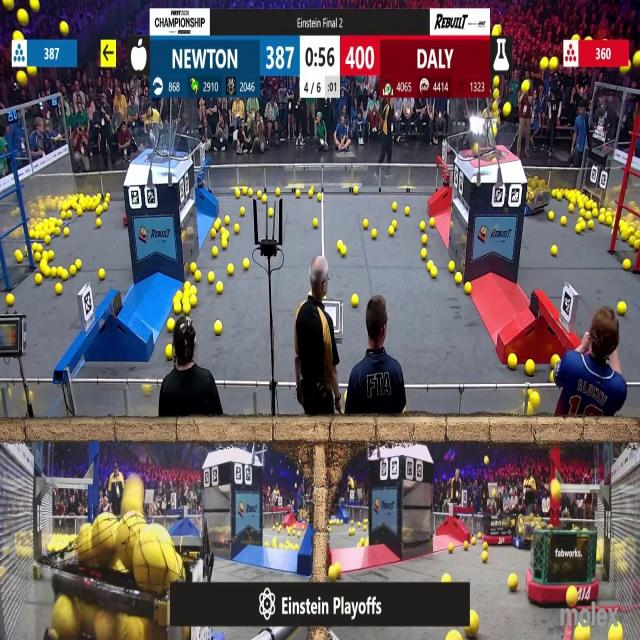ball_airborne: (467, 612, 478, 634), (552, 481, 562, 500), (17, 9, 27, 24), (620, 60, 630, 74), (632, 50, 640, 67), (16, 72, 26, 85), (492, 24, 502, 36), (60, 22, 68, 36), (3, 0, 13, 10), (30, 0, 39, 11), (502, 104, 510, 116), (540, 59, 548, 71), (12, 30, 24, 38), (28, 66, 36, 77), (523, 80, 530, 92), (152, 110, 158, 123), (493, 76, 500, 87), (492, 103, 499, 112), (493, 90, 500, 99), (492, 126, 498, 136), (472, 144, 477, 154), (485, 456, 490, 465), (483, 110, 488, 118)
ball_ground: (611, 626, 624, 640), (509, 574, 518, 591), (328, 565, 338, 580), (530, 391, 540, 405), (574, 628, 586, 639), (510, 354, 518, 369), (526, 360, 534, 374), (166, 346, 174, 360), (40, 264, 48, 277), (214, 320, 221, 334), (619, 303, 627, 315), (182, 304, 190, 316), (550, 59, 558, 71), (168, 319, 175, 332), (443, 572, 452, 582), (624, 261, 632, 272), (420, 248, 428, 259), (6, 293, 13, 305), (455, 273, 462, 285), (189, 294, 196, 306), (464, 282, 471, 294), (552, 354, 559, 366), (174, 304, 182, 314), (352, 293, 358, 306), (208, 273, 215, 284), (15, 251, 22, 262), (62, 270, 69, 281), (143, 384, 150, 395), (70, 266, 77, 277), (216, 282, 222, 294), (36, 274, 42, 286), (99, 270, 106, 280), (449, 263, 456, 273), (193, 272, 200, 282), (586, 210, 593, 220), (483, 552, 489, 563), (244, 260, 250, 271), (50, 268, 56, 279), (76, 258, 82, 269), (550, 370, 556, 381), (628, 238, 636, 246), (227, 266, 233, 276), (57, 284, 63, 294), (552, 246, 558, 256), (370, 230, 376, 240), (212, 246, 218, 256), (313, 218, 319, 228), (430, 269, 436, 279), (221, 240, 227, 250), (527, 406, 533, 416), (599, 214, 605, 224), (214, 219, 220, 229), (42, 250, 48, 260), (592, 208, 598, 218), (420, 221, 426, 230), (240, 207, 246, 216), (341, 247, 347, 256), (386, 227, 392, 236), (189, 264, 195, 273), (269, 208, 275, 217), (211, 230, 217, 239), (422, 236, 428, 245), (48, 251, 54, 260), (190, 286, 196, 295), (316, 191, 322, 200), (427, 262, 433, 271), (76, 207, 82, 216), (605, 216, 611, 225), (45, 236, 51, 245), (449, 542, 454, 552), (97, 218, 102, 228), (363, 218, 368, 228), (338, 240, 343, 250), (577, 216, 584, 223), (561, 216, 567, 224), (588, 220, 594, 228), (547, 212, 553, 220), (403, 207, 409, 215), (35, 252, 41, 260), (64, 229, 70, 237), (236, 189, 242, 197), (483, 541, 489, 549), (429, 218, 435, 226), (176, 290, 182, 298), (67, 210, 73, 218), (256, 190, 262, 198), (222, 232, 228, 240), (575, 223, 580, 232), (392, 203, 397, 212), (579, 208, 584, 217), (97, 207, 102, 216), (568, 205, 574, 212), (276, 188, 282, 195), (350, 528, 356, 535), (573, 35, 579, 42), (184, 282, 189, 290), (248, 188, 253, 196), (236, 223, 240, 232), (309, 190, 314, 197), (353, 187, 358, 194), (392, 220, 397, 227), (32, 244, 37, 251), (588, 36, 593, 43), (224, 216, 228, 224), (464, 540, 468, 548), (106, 192, 110, 200), (104, 204, 108, 212), (360, 537, 364, 545), (295, 190, 299, 197), (471, 537, 475, 544), (264, 197, 268, 204), (266, 541, 270, 547)
goal: (465, 120, 522, 160), (127, 130, 187, 159)
robot_blue: (524, 176, 550, 217), (514, 514, 539, 548)
robot_red: (528, 529, 600, 606), (599, 513, 640, 631), (481, 512, 514, 544)
